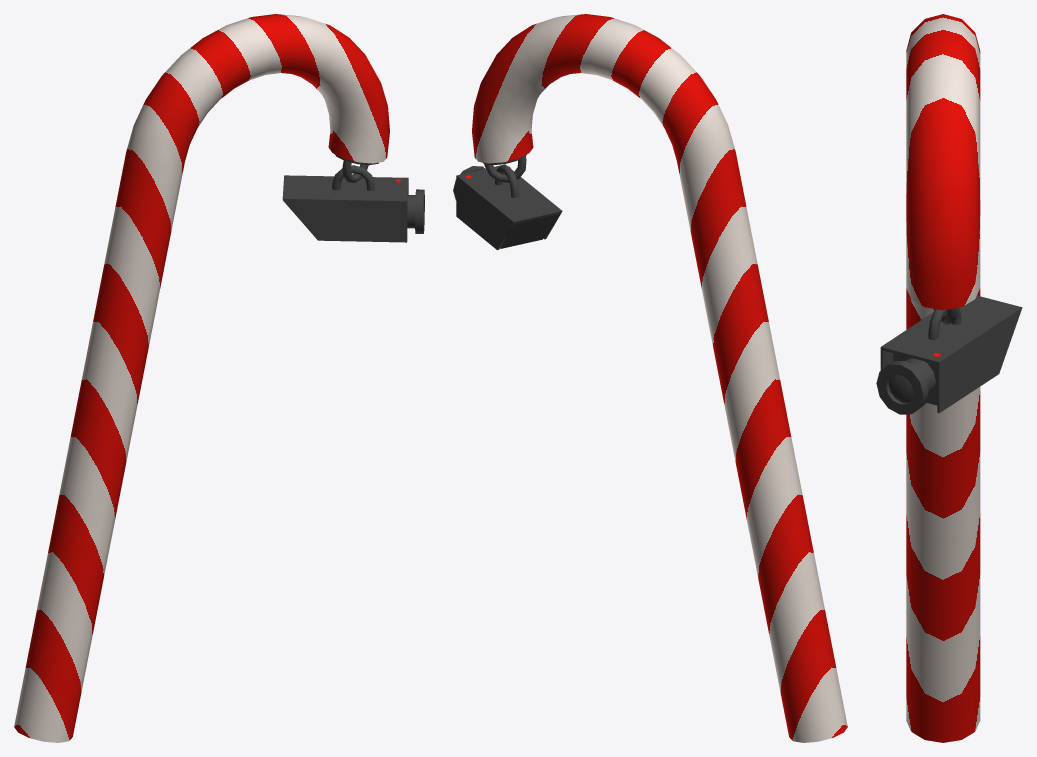
File: Sugar_candy.glb
The picture shows the model from 3 angles, left to right: view 1: azimuth 30°, elevation 25°; view 2: azimuth 150°, elevation 25°; view 3: azimuth 270°, elevation 25°; orthographic projection. The views are drawn at different scales.
Visible parts, largest first — view 1: Sugar_candy; view 2: Sugar_candy; view 3: Sugar_candy.
Boxes of the visible parts, x1,y1,x2,y2 form: Sugar_candy: [14, 14, 424, 742]; Sugar_candy: [453, 14, 847, 742]; Sugar_candy: [876, 14, 1022, 742].
Bounding box in the file's own units: 3.85 × 6.15 × 0.9873.
3 materials, 1 textured.
